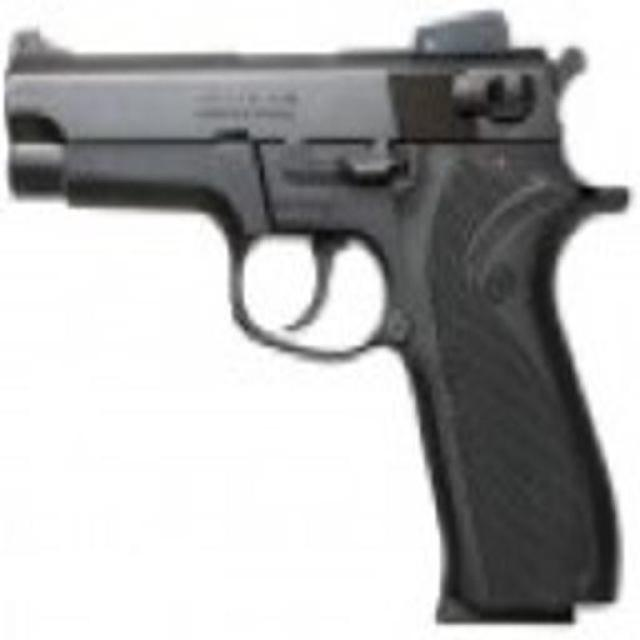pistol: (4, 5, 615, 629)
